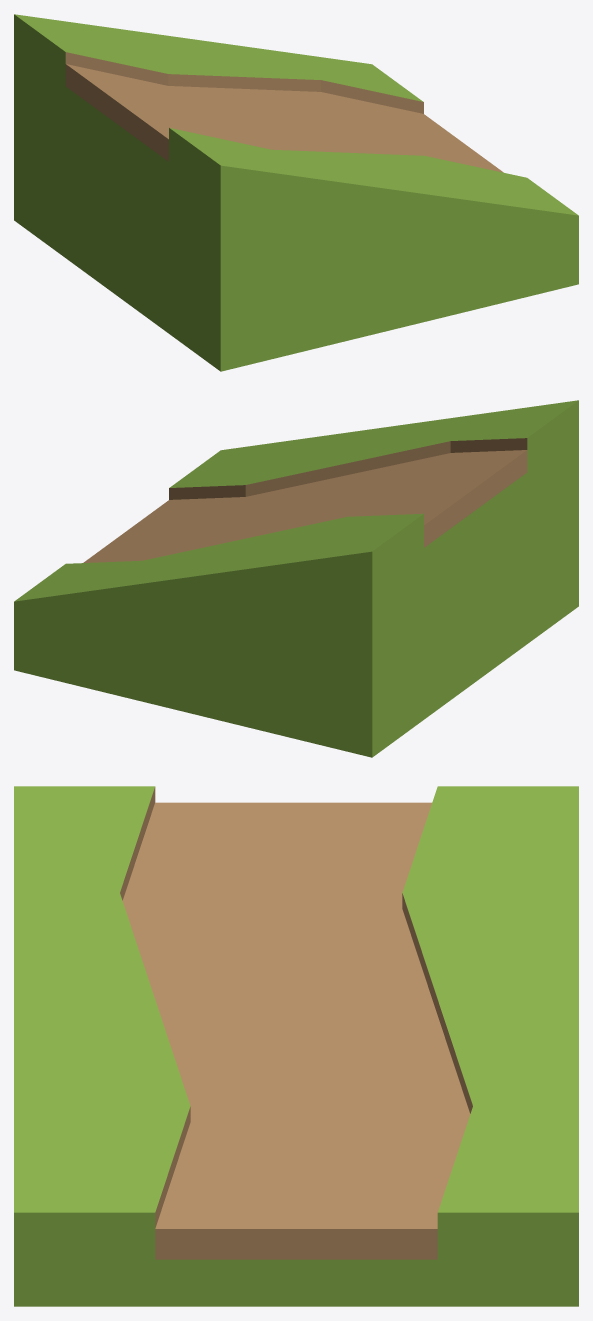
Rendered from roadTile_018.fbx.
3 views of the same model, one above another, from view 1: azimuth 30°, elevation 25°; view 2: azimuth 150°, elevation 25°; view 3: azimuth 270°, elevation 25° (orthographic). The views are drawn at different scales.
Visible parts, largest first — view 1: roadTile_018; view 2: roadTile_018; view 3: roadTile_018.
Boxes of the visible parts, x1,y1,x2,y2 form: roadTile_018: (14, 14, 578, 371); roadTile_018: (14, 400, 578, 757); roadTile_018: (14, 786, 578, 1306).
Size of the model in its own units: 118 by 64.96 by 118.
